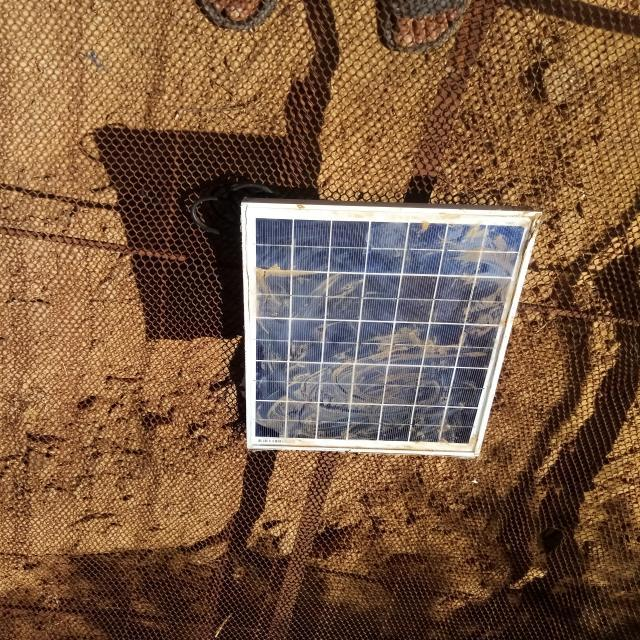faulty: (244, 204, 537, 455)
